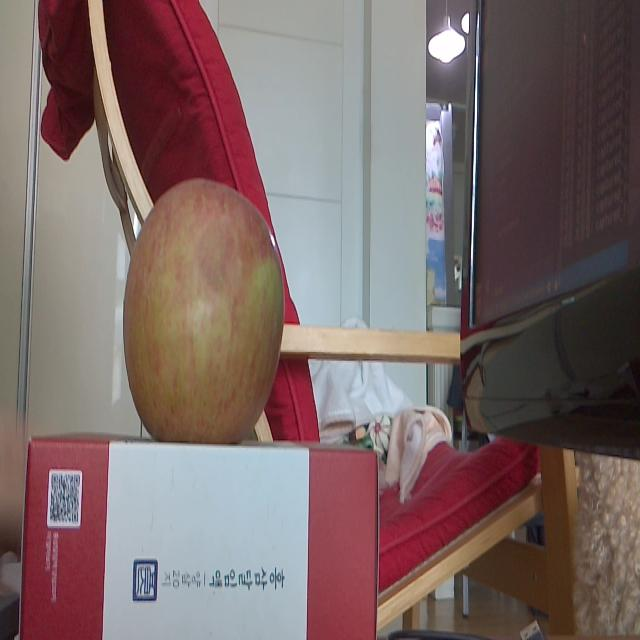apple: (123, 176, 285, 443)
